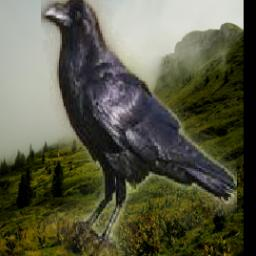Crow: (41, 0, 237, 256)
